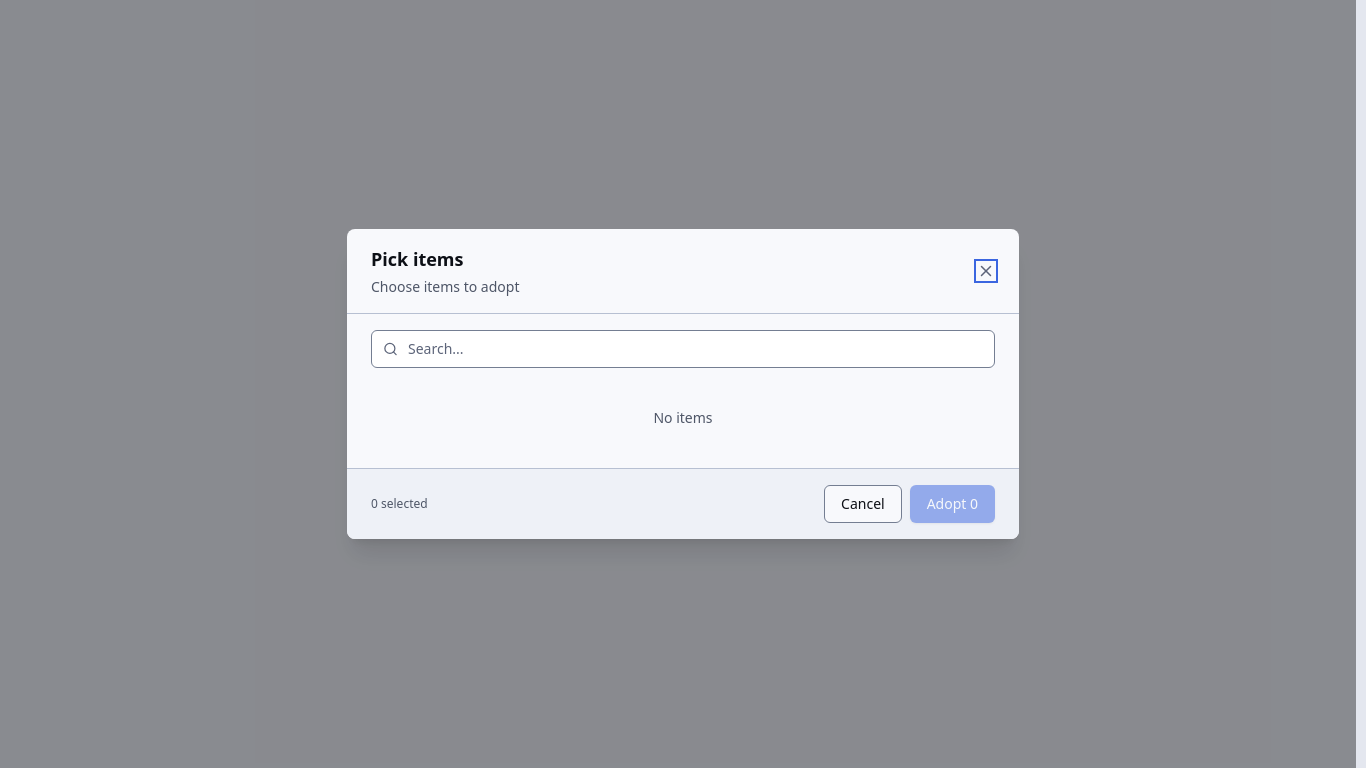
Scenario: CatalogPickerModal search race › keeps the newest query's results, even when an earlier query's slower response arrives after it
This screenshot has width=1366, height=768.
Type "sm" into the field with placeholder "Search...". click: (683, 349)
box: [371, 330, 995, 368]
Wait 300 ms
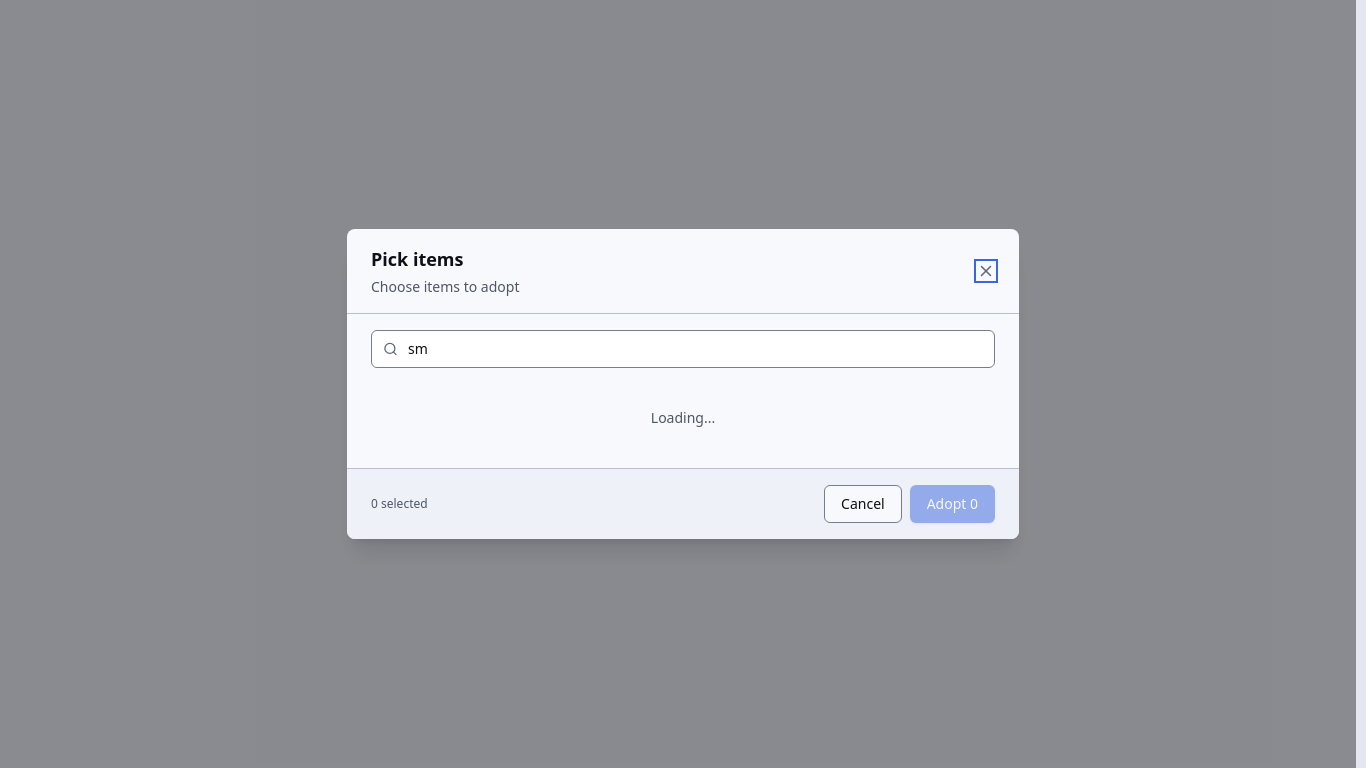
Replace the text in the field with placeholder "Search..." with "smith". click: (683, 349)
box: [371, 330, 995, 368]
Wait 1300 ms
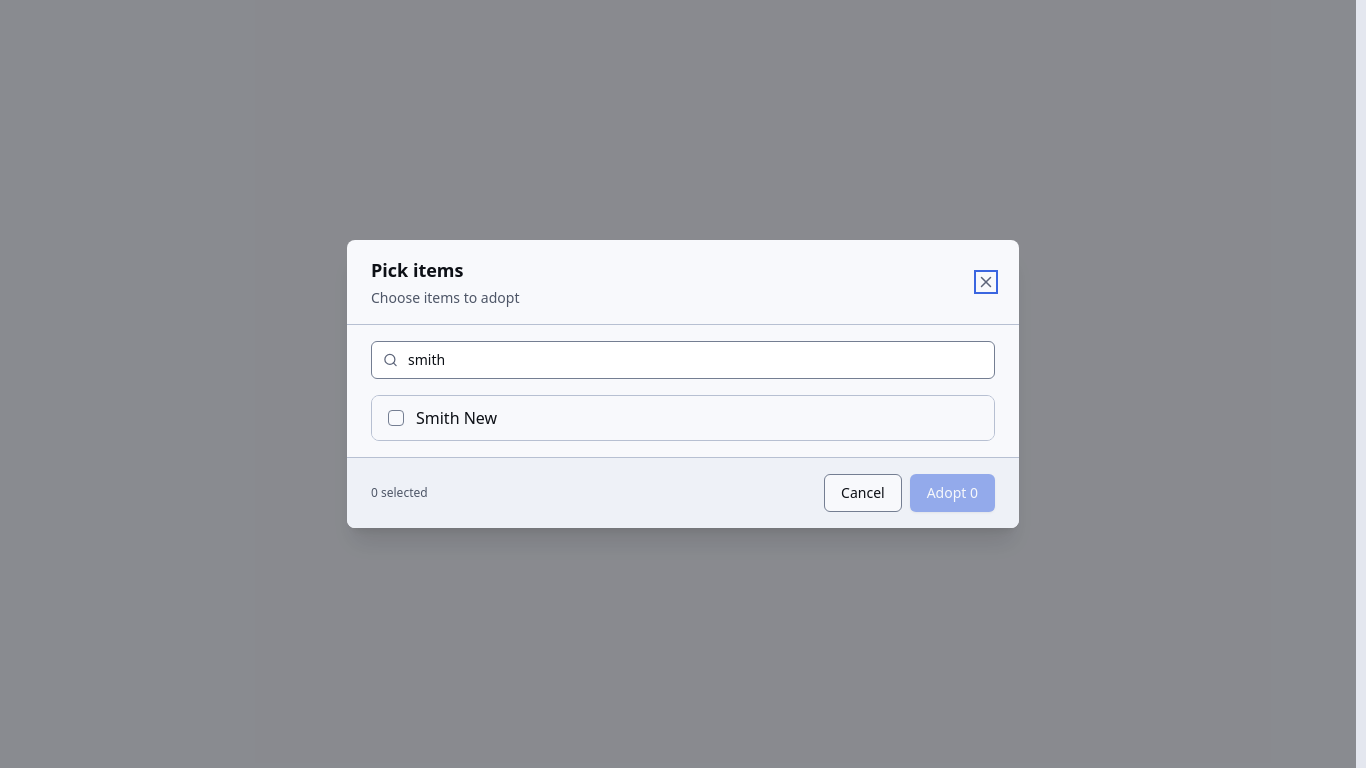
Result: the text "Smith New" is shown at [416, 406, 497, 430]
